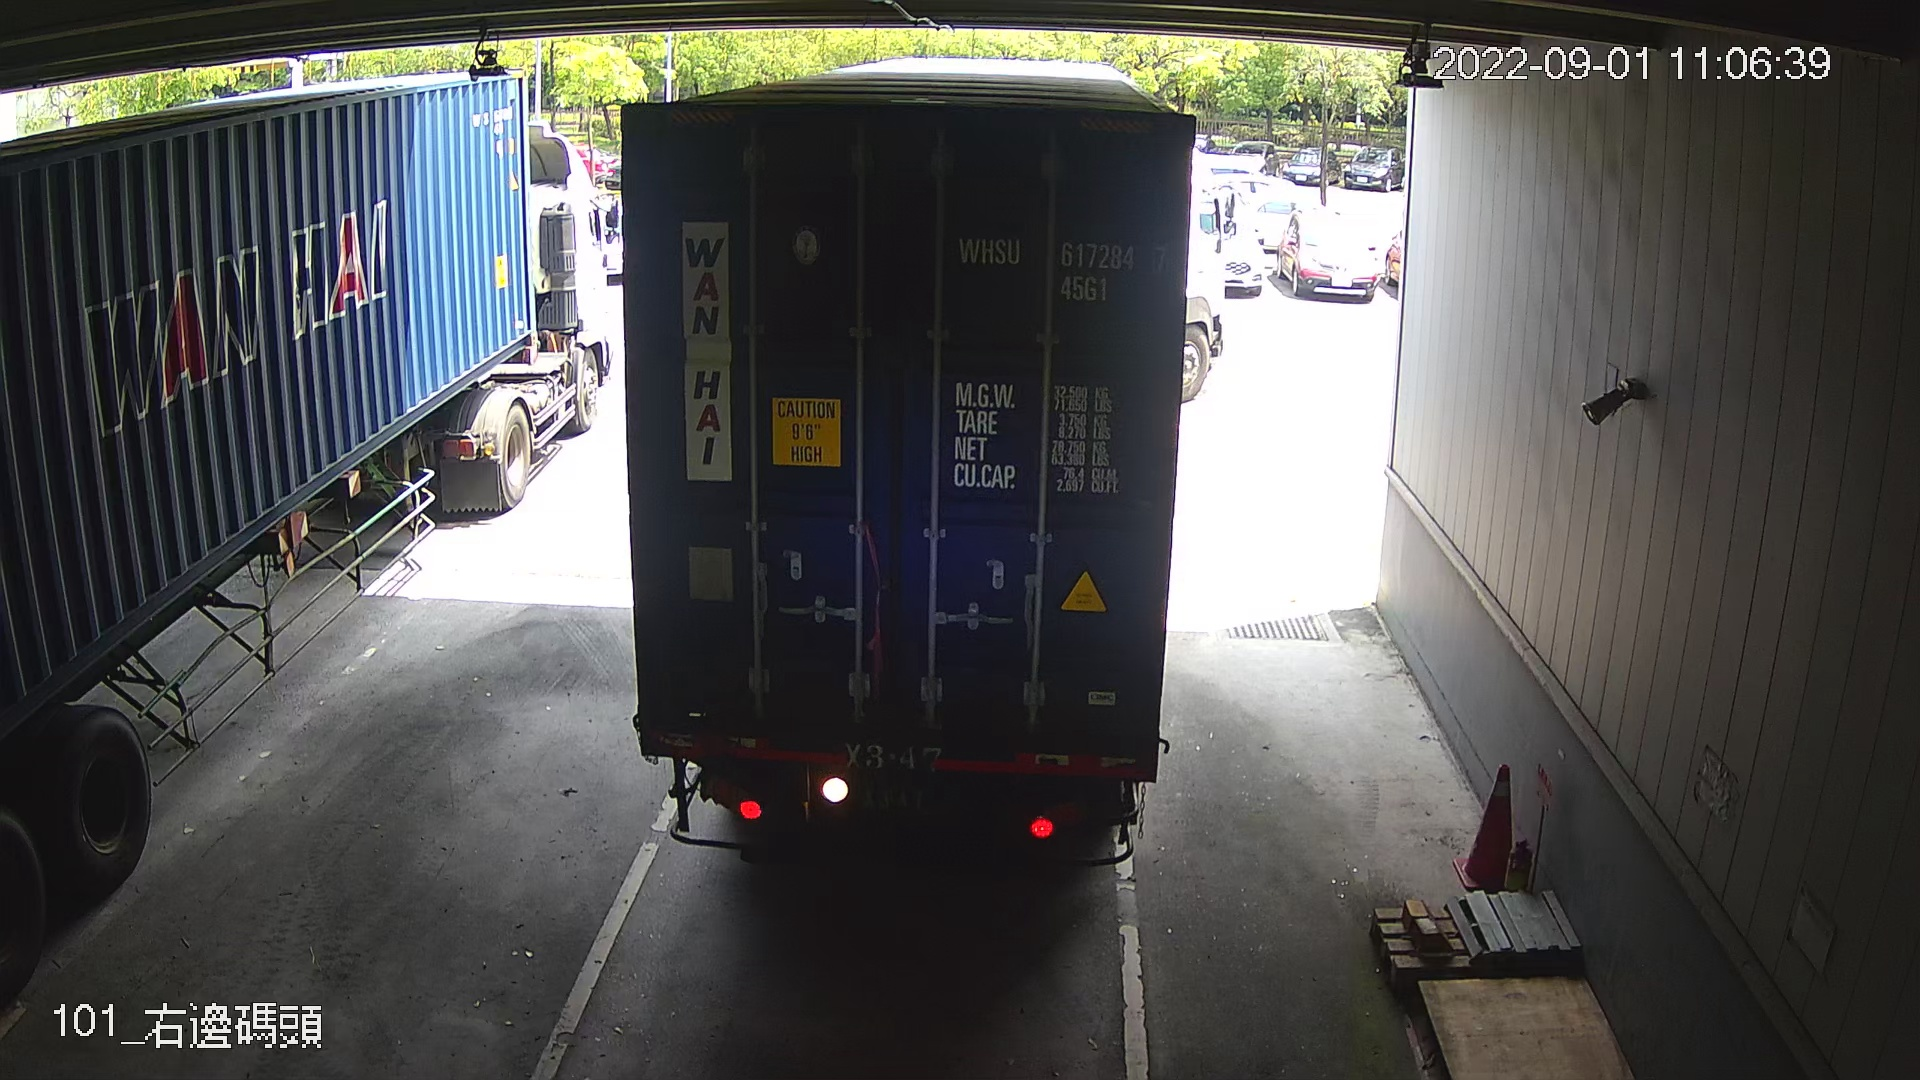container: (947, 225, 1178, 313)
